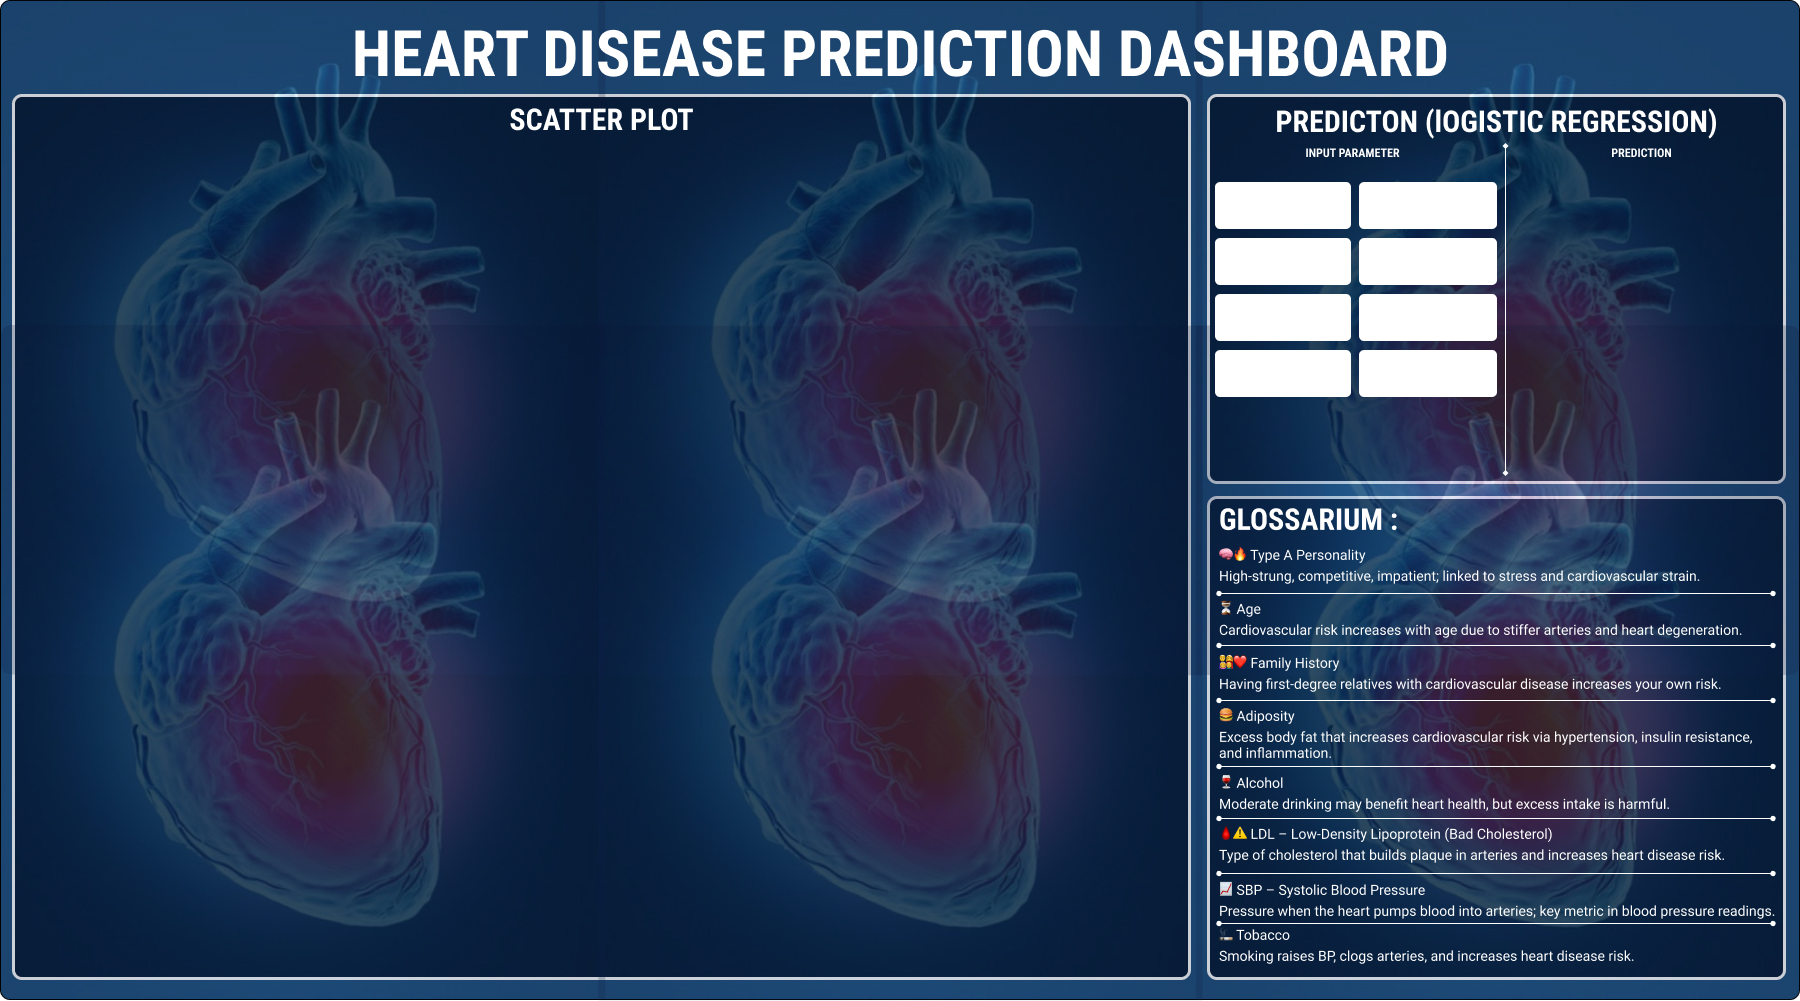

What the dashboard file says about the page in this screenshot:
{"tool":"tableau","page":{"name":"Heart Desease Prediction","canvas":[1800,1000],"ordinal":0},"visuals":[{"type":"image","param":"Image/Untitled (2).jpg","box":[8,8,1784,984]},{"type":"legend","title":"scatter plot","param":"[federated.12ecfz11tbjbce1010qko08yfzcq].[none:CHD:nk]","box":[915,137,261,23]},{"type":"worksheet","title":"scatter plot","mark":"Automatic","rows":["typea","age","FamHist","adiposity","alcohol","ldl(mmol/L)","sbp(mm Hg)","tobacco(in Kg)"],"cols":["typea","age","FamHist","adiposity","alcohol","ldl(mmol/L)","sbp(mm Hg)","tobacco(in Kg)"],"box":[42,173,1135,788]},{"type":"worksheet","title":"LR Pred","mark":"Pie","rows":["Calculation_16044111612743690","Calculation_16044111613108236"],"box":[1493,190,265,219]},{"type":"parameter","param":"[Parameters].[Adiposity (copy)_792070622292500480]","box":[1351,191,123,44]},{"type":"parameter","param":"[Parameters].[Tobacco (copy)_792070622293098501]","box":[1210,192,125,41]},{"type":"parameter","param":"[Parameters].[Parameter 1]","box":[1351,245,123,44]},{"type":"parameter","param":"[Parameters].[Adiposity (copy)_792070622390120465]","box":[1211,246,125,44]},{"type":"parameter","param":"[Parameters].[Age (copy)_792070622292815873]","box":[1210,300,126,44]},{"type":"parameter","param":"[Parameters].[Alcohol (copy)_792070622292897794]","box":[1351,300,125,44]},{"type":"parameter","param":"[Parameters].[Ldlpc (copy)_792070622292971523]","box":[1210,354,125,44]},{"type":"parameter","param":"[Parameters].[SBP (copy)_792070622293057540]","box":[1351,354,125,44]}]}

Visuals, with their boxes in screenshot pixels (x1, y1, x2, y2), scaled from the page's 1800x1000 canvas onto the 1800x1001 screenshot:
image: <region>8, 8, 1792, 993</region>
"scatter plot" legend: <region>915, 137, 1176, 160</region>
"scatter plot" worksheet: <region>42, 173, 1177, 962</region>
"LR Pred" worksheet (Pie marks): <region>1493, 190, 1758, 409</region>
parameter: <region>1351, 191, 1474, 235</region>
parameter: <region>1210, 192, 1335, 233</region>
parameter: <region>1351, 245, 1474, 289</region>
parameter: <region>1211, 246, 1336, 290</region>
parameter: <region>1210, 300, 1336, 344</region>
parameter: <region>1351, 300, 1476, 344</region>
parameter: <region>1210, 354, 1335, 398</region>
parameter: <region>1351, 354, 1476, 398</region>
